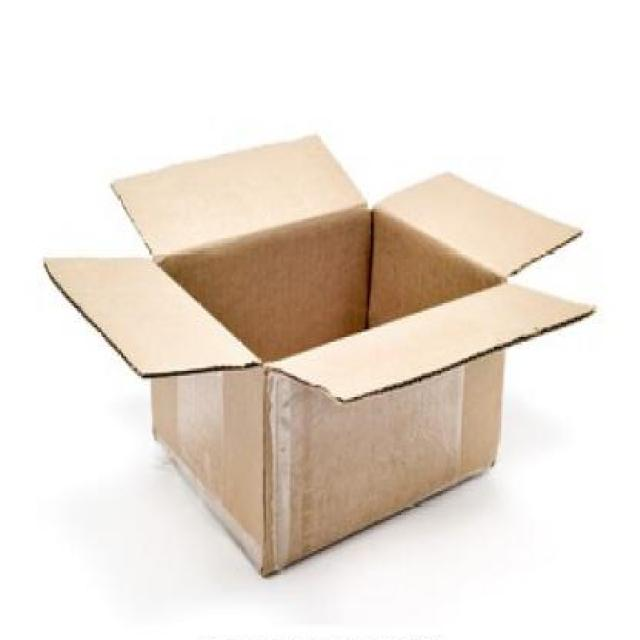box: (39, 122, 598, 589)
